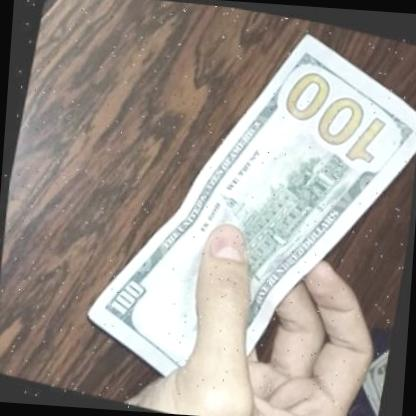one_hundred-back: (42, 0, 416, 416)
